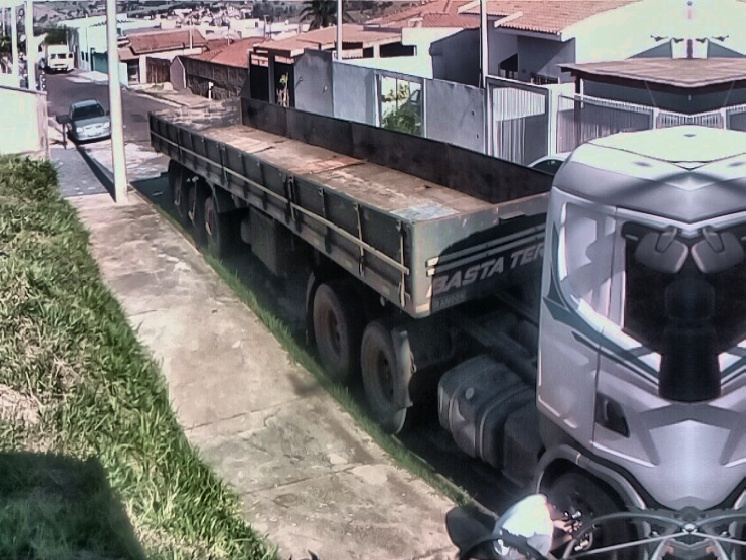person: (491, 491, 576, 560)
